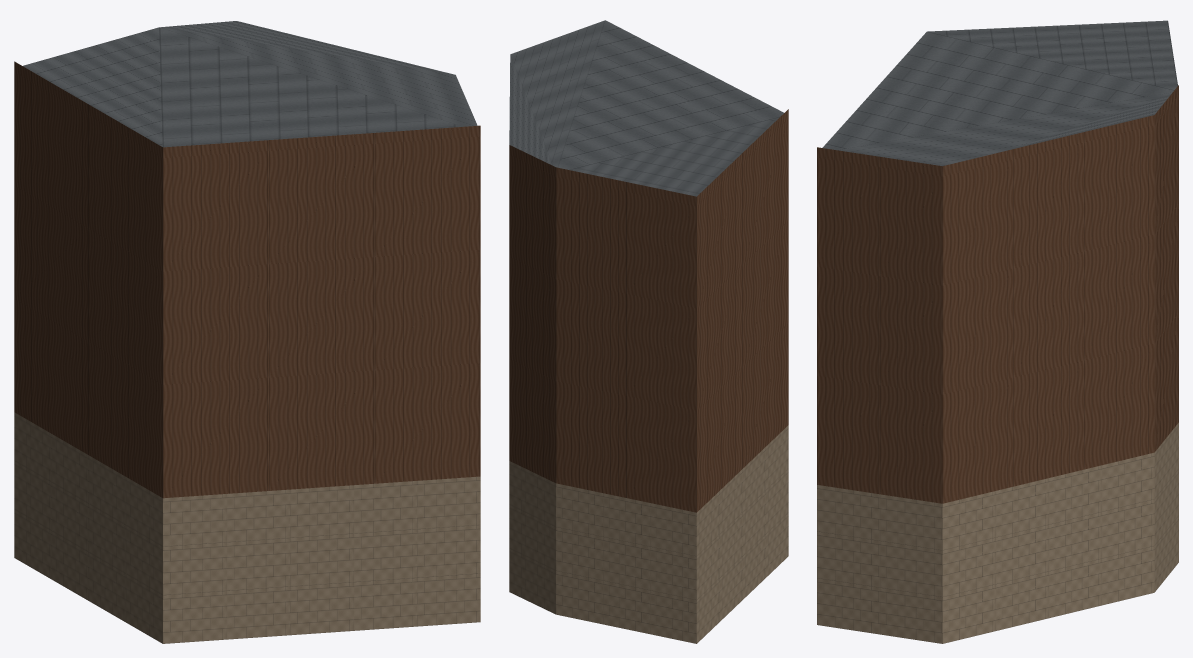
The model's file is core_0125.gltf.
3 views of the same model, side by side, from view 1: azimuth 30°, elevation 25°; view 2: azimuth 150°, elevation 25°; view 3: azimuth 270°, elevation 25° (orthographic). The views are drawn at different scales.
Visible parts, largest first — view 1: core_0125; view 2: core_0125; view 3: core_0125.
Part boxes in pixels (x1,y1,x2,y2): core_0125: (14,21,480,643); core_0125: (509,20,788,643); core_0125: (817,20,1178,643).
Size of the model in its own units: 11.88 by 17.38 by 11.93.
3 materials, 3 textured.
